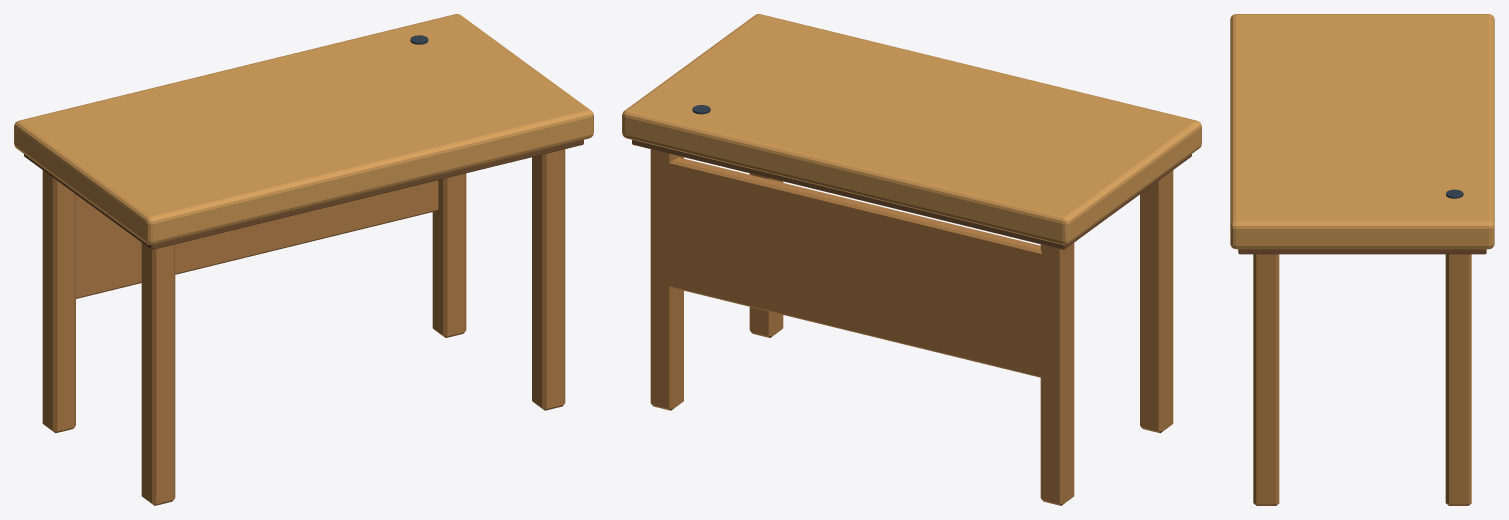
Rendered from desk_open.glb.
3 renders of one model, left to right at view 1: azimuth 30°, elevation 25°; view 2: azimuth 150°, elevation 25°; view 3: azimuth 270°, elevation 25°, orthographic. The views are drawn at different scales.
Visible parts, largest first — view 1: desk_open__oak_top, desk_open__oak, desk_open__oak_dark; view 2: desk_open__oak, desk_open__oak_top, desk_open__oak_dark; view 3: desk_open__oak_top, desk_open__oak, desk_open__oak_dark.
Boxes of the visible parts, left/top/right/bottom form: desk_open__oak_top: left=14, top=14, right=593, bottom=244; desk_open__oak: left=42, top=149, right=565, bottom=505; desk_open__oak_dark: left=24, top=140, right=583, bottom=249; desk_open__oak: left=650, top=149, right=1173, bottom=505; desk_open__oak_top: left=622, top=14, right=1201, bottom=244; desk_open__oak_dark: left=632, top=140, right=1191, bottom=249; desk_open__oak_top: left=1230, top=14, right=1494, bottom=249; desk_open__oak: left=1253, top=254, right=1471, bottom=505; desk_open__oak_dark: left=1238, top=249, right=1486, bottom=254.
Bounding box in the file's own units: 1.25 × 0.8075 × 0.66.
